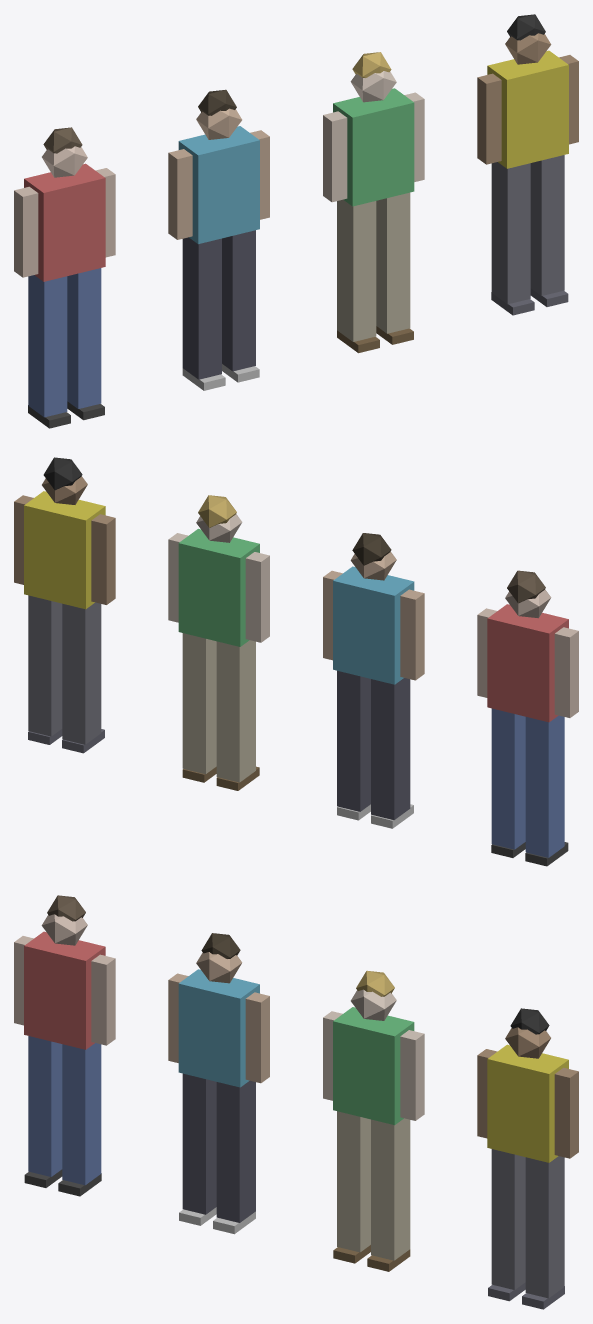
File: ped.glb
3 renders of one model, top to bottom at view 1: azimuth 30°, elevation 25°; view 2: azimuth 150°, elevation 25°; view 3: azimuth 330°, elevation 25°, orthographic.
Visible parts, largest first — view 1: ped_var1, ped_var3, ped_var2, ped_var0; view 2: ped_var2, ped_var0, ped_var3, ped_var1; view 3: ped_var0, ped_var2, ped_var1, ped_var3.
Boxes of the visible parts, x1,y1,x2,y2 form: ped_var1: [168, 89, 269, 390]; ped_var3: [477, 14, 578, 315]; ped_var2: [323, 52, 424, 353]; ped_var0: [14, 127, 115, 428]; ped_var2: [168, 495, 269, 790]; ped_var0: [477, 570, 578, 866]; ped_var3: [14, 457, 115, 753]; ped_var1: [323, 533, 424, 828]; ped_var0: [14, 895, 115, 1196]; ped_var2: [323, 970, 424, 1271]; ped_var1: [168, 933, 269, 1234]; ped_var3: [477, 1008, 578, 1309].
Size of the model in its own units: 3.6 by 1.74 by 0.2536.
